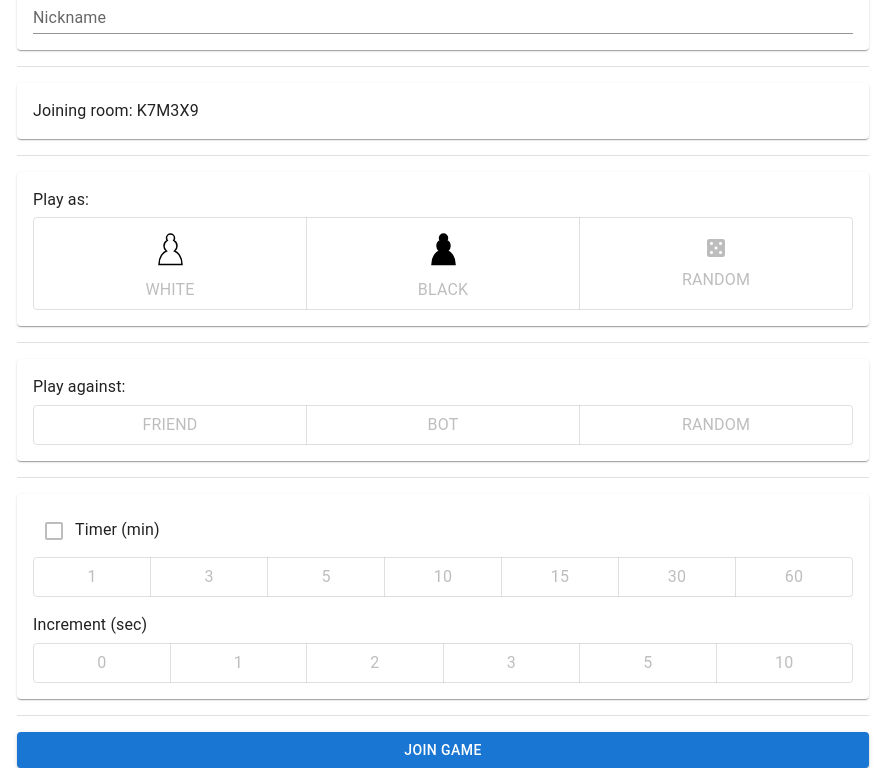
Scenario: NewGame page › shows a snackbar with the mapped message when join returns ROOM_FULL
The width and height of the screenshot is (887, 768).
(page scrolled)
Click the button "Join game".
click(443, 750)  # box [17,732,869,767]
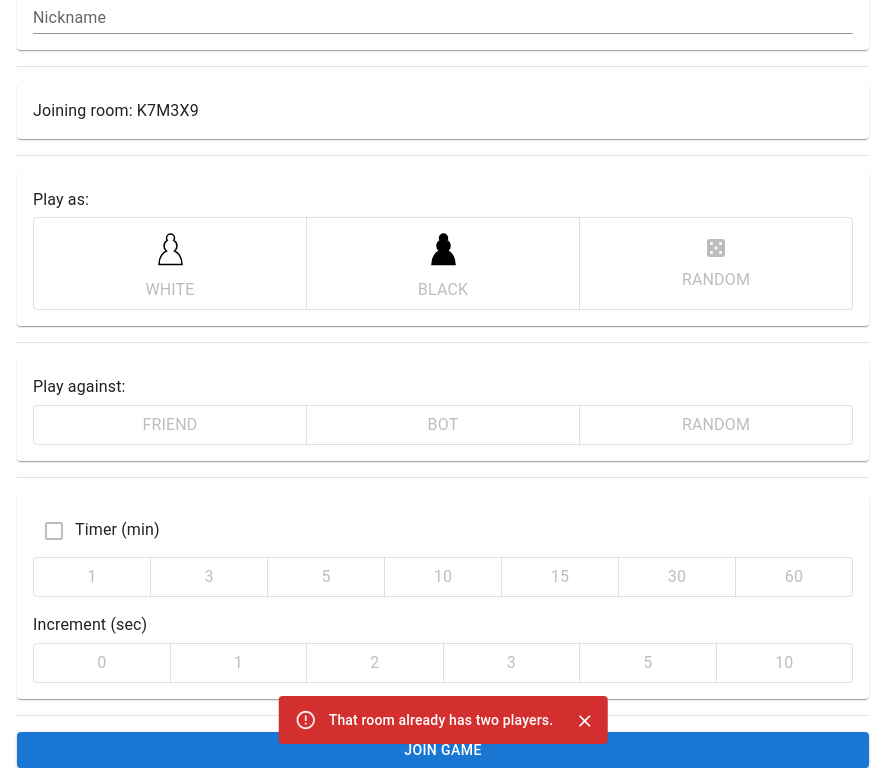
expect the text "That room already has two players." is shown: met, box [329,712,553,728]
